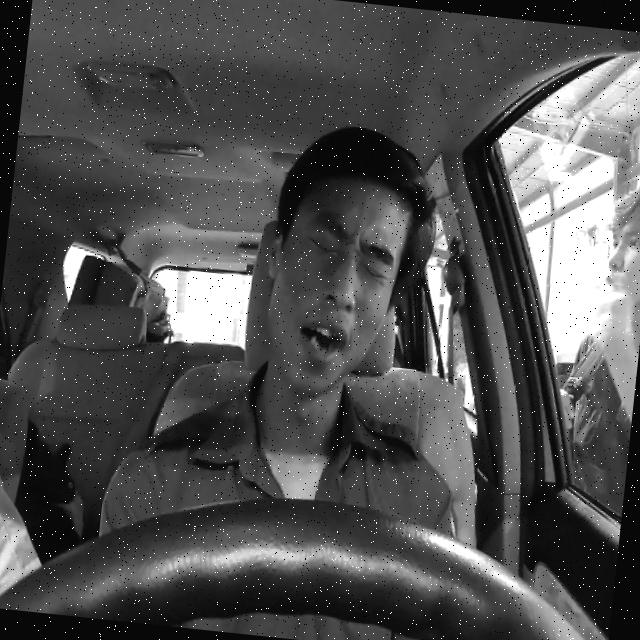yarning: (251, 170, 412, 401)
